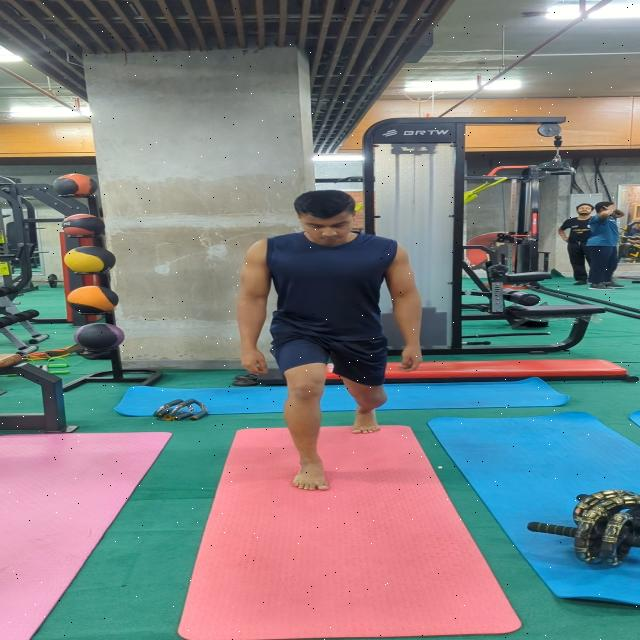Normal_Lunges: (234, 188, 425, 494)
